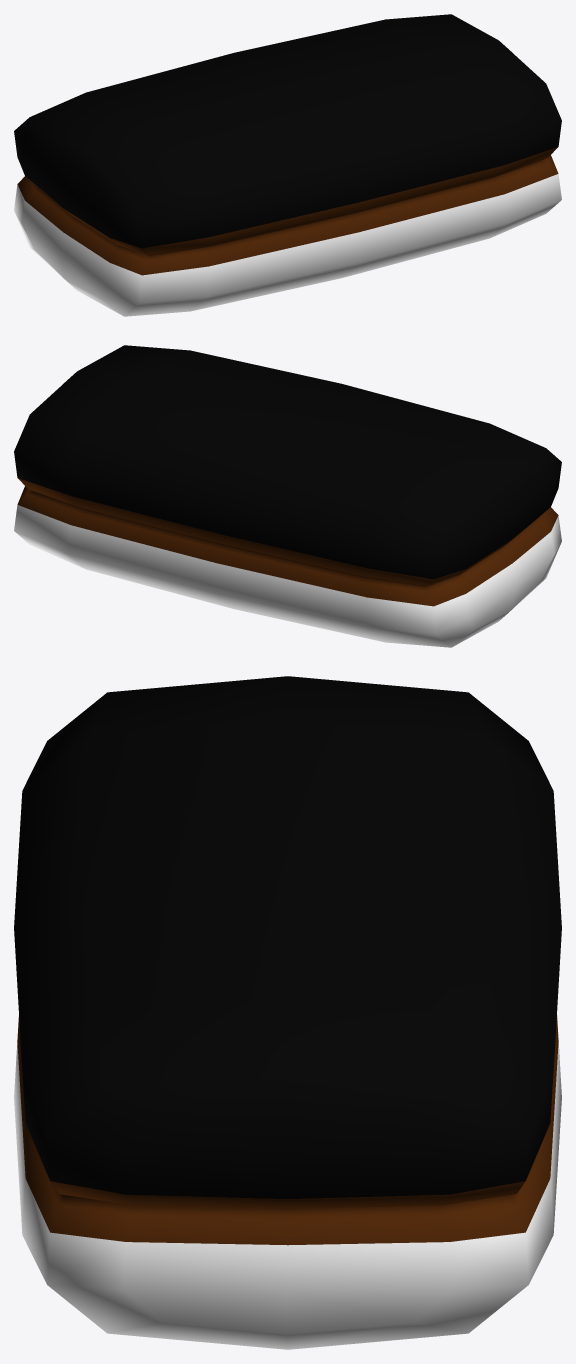
Rendered from Mesh_Basic_horse.fbx.
3 views of the same model, one above another, from view 1: azimuth 30°, elevation 25°; view 2: azimuth 150°, elevation 25°; view 3: azimuth 270°, elevation 25° (orthographic). The views are drawn at different scales.
Visible parts, largest first — view 1: Cylinder001; view 2: Cylinder001; view 3: Cylinder001.
Part boxes in pixels (x1,y1,x2,y2): Cylinder001: [14, 14, 561, 316]; Cylinder001: [14, 345, 561, 647]; Cylinder001: [14, 676, 561, 1349].
Size of the model in its own units: 55.43 by 19.29 by 30.3.
